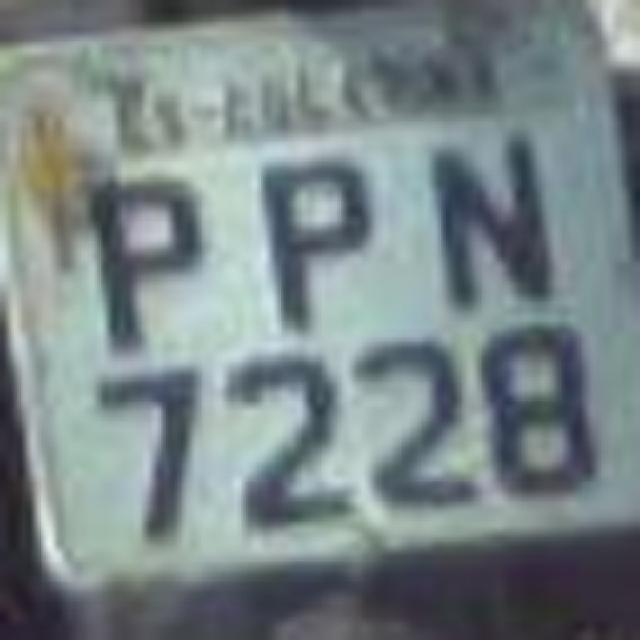2: (192, 336, 360, 536), (328, 336, 480, 529)
7: (71, 340, 204, 540)
8: (464, 328, 588, 520)
N: (424, 136, 568, 332)
P: (85, 144, 220, 348), (260, 140, 392, 348)
